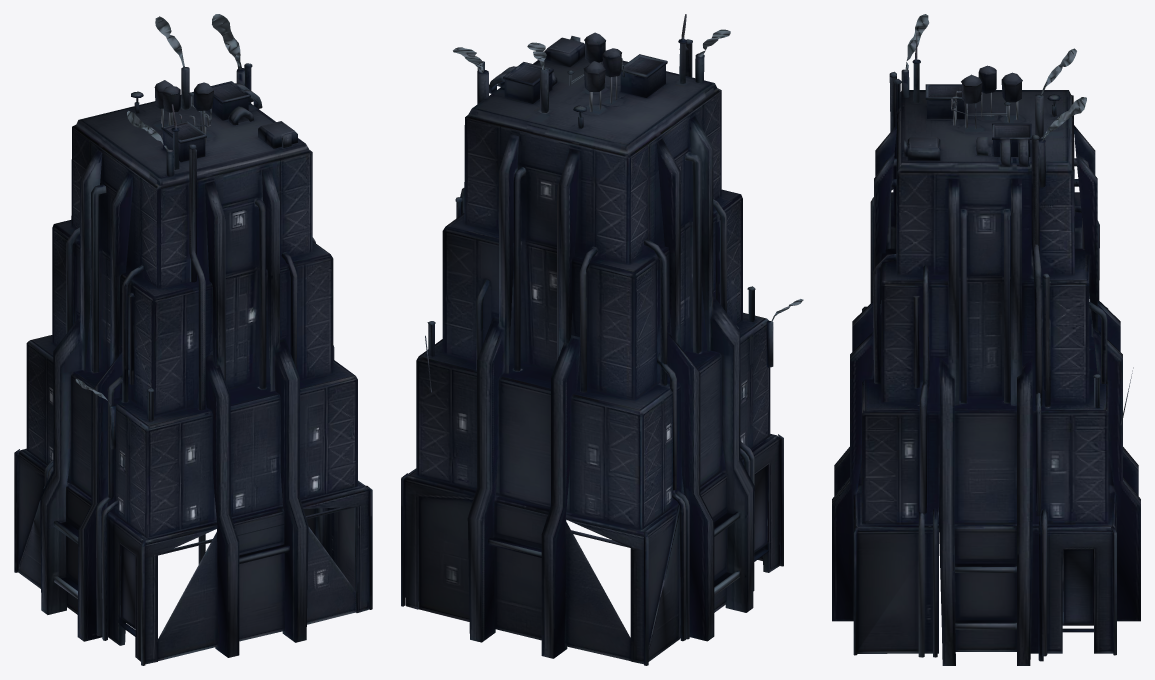
File: asset_pack_item_glb-vd7cxkype8hjmjh2dz3cd04pa58btdj9-4-ks7eq04kmtsmz6ekgphkm6ksv58bvpb7.glb
3 views of the same model, side by side, from view 1: azimuth 30°, elevation 25°; view 2: azimuth 150°, elevation 25°; view 3: azimuth 270°, elevation 25° (orthographic). The views are drawn at different scales.
Parts seen in each view (by area): view 1: deco-tower-industrial; view 2: deco-tower-industrial; view 3: deco-tower-industrial.
Part boxes in pixels (x1,y1,x2,y2): deco-tower-industrial: (14, 14, 372, 665); deco-tower-industrial: (401, 14, 803, 665); deco-tower-industrial: (832, 14, 1140, 665).
Bounding box in the file's own units: 0.5488 × 0.998 × 0.502.
1 material, 1 textured.
